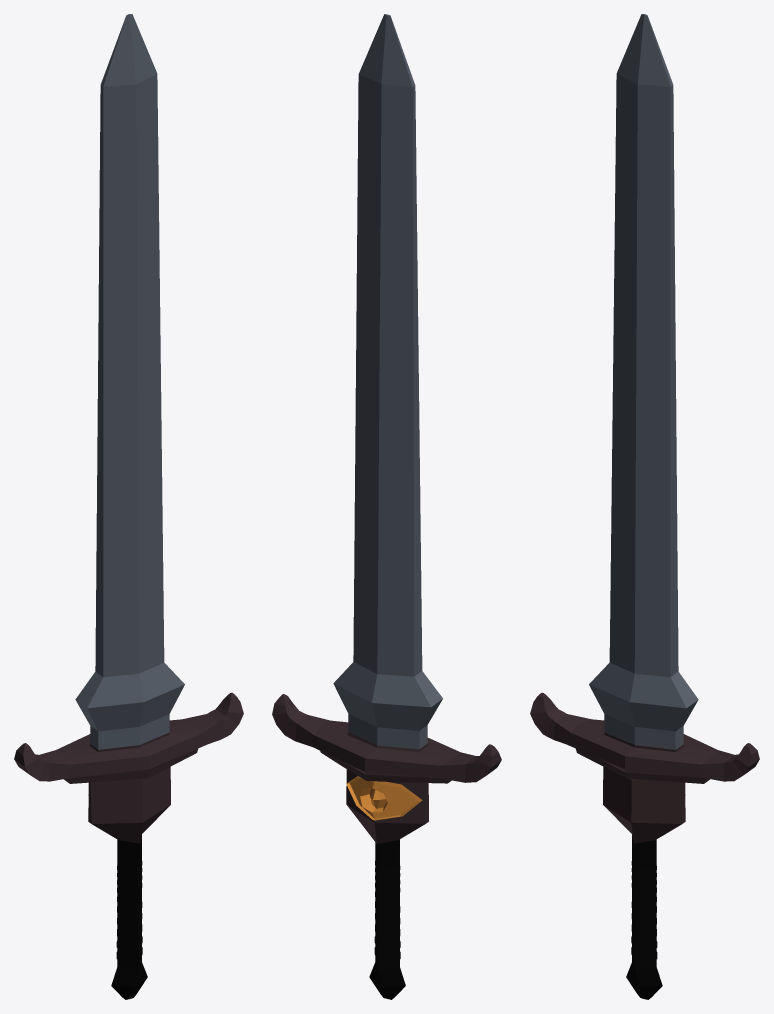
Rendered from Schwert.fbx.
3 renders of one model, left to right at view 1: azimuth 30°, elevation 25°; view 2: azimuth 150°, elevation 25°; view 3: azimuth 330°, elevation 25°, orthographic.
Visible parts, largest first — view 1: Sword, Handle, End; view 2: Sword, Handle, End, Eye; view 3: Sword, Handle, End.
Part boxes in pixels (x1,y1,x2,y2): Sword: [75, 14, 184, 749]; Handle: [14, 692, 243, 843]; End: [111, 835, 147, 999]; Sword: [333, 14, 442, 749]; Handle: [272, 694, 501, 843]; End: [369, 839, 405, 999]; Eye: [346, 776, 422, 820]; Sword: [589, 14, 698, 749]; Handle: [530, 692, 759, 843]; End: [626, 835, 662, 999].
Size of the model in its own units: 139 by 598 by 46.77.
